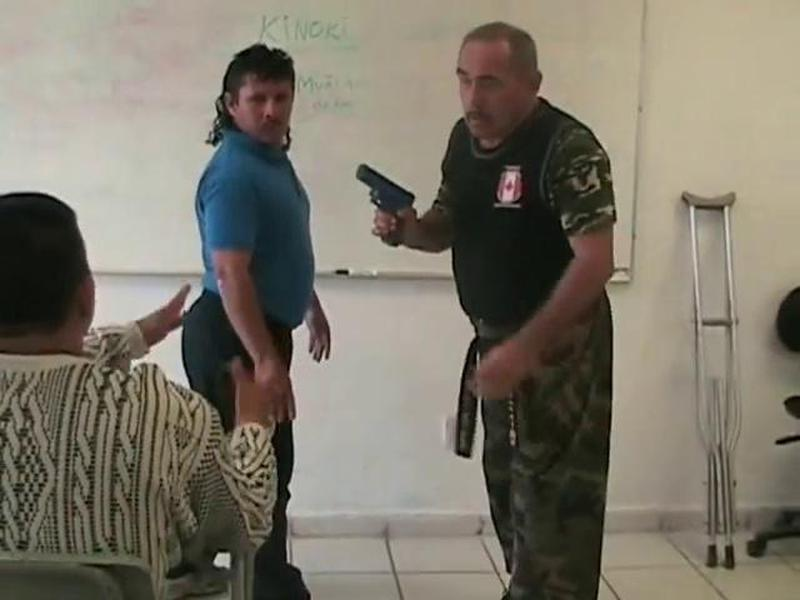Pistola: (349, 159, 421, 249)
